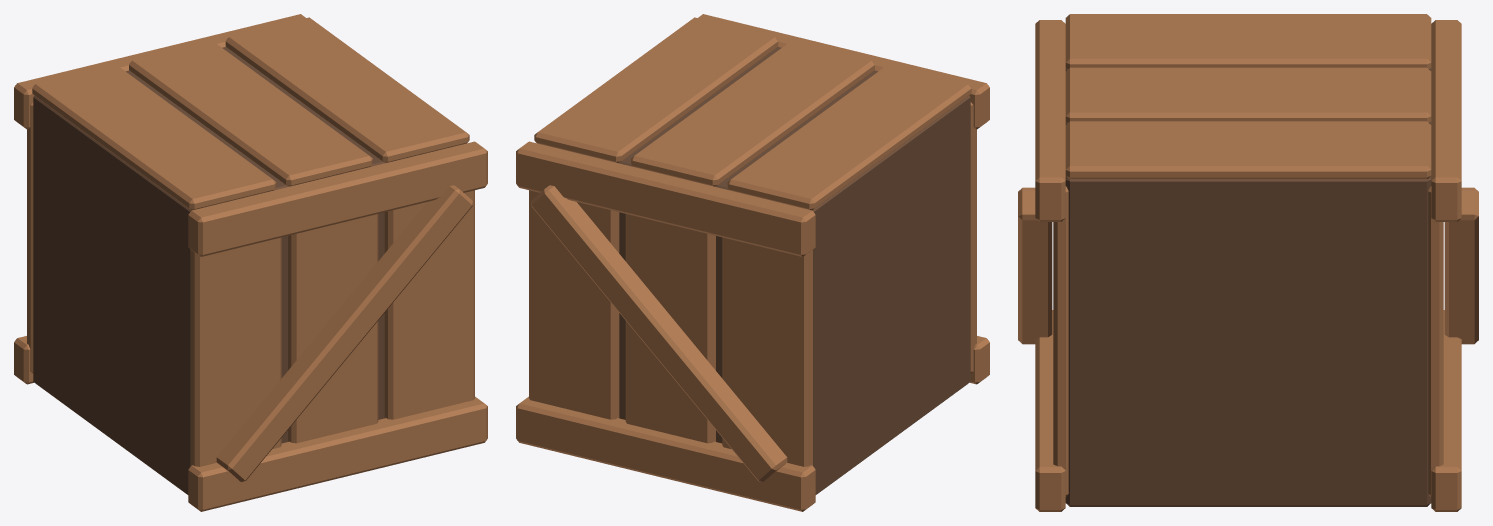
Rendered from wood_crate_small_01.glb.
3 views of the same model, side by side, from view 1: azimuth 30°, elevation 25°; view 2: azimuth 150°, elevation 25°; view 3: azimuth 270°, elevation 25° (orthographic). The views are drawn at different scales.
Visible parts, largest first — view 1: wood_crate_small_01; view 2: wood_crate_small_01; view 3: wood_crate_small_01.
Part boxes in pixels (x1,y1,x2,y2): wood_crate_small_01: (14, 14, 487, 511); wood_crate_small_01: (516, 14, 989, 511); wood_crate_small_01: (1018, 14, 1478, 511).
Size of the model in its own units: 0.35 by 0.3483 by 0.4235.
